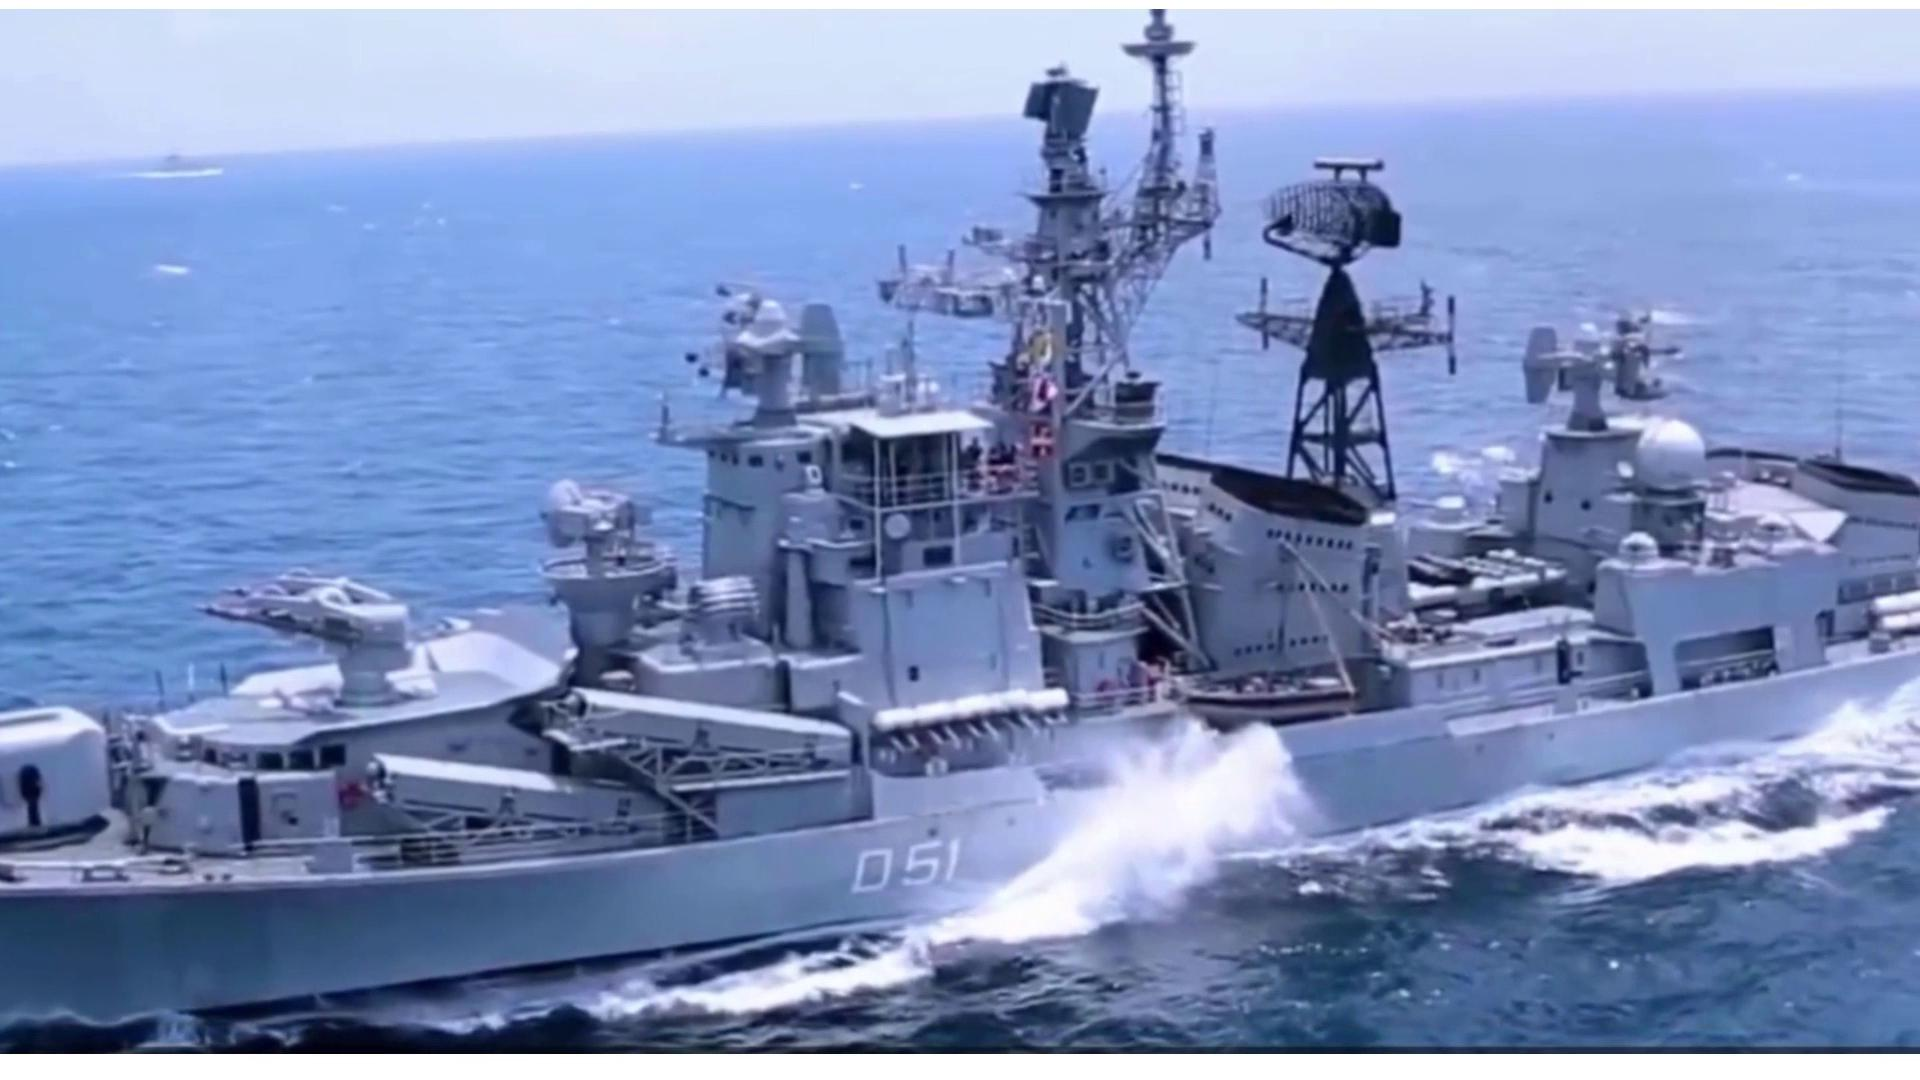OCR: (824, 823, 976, 910)
